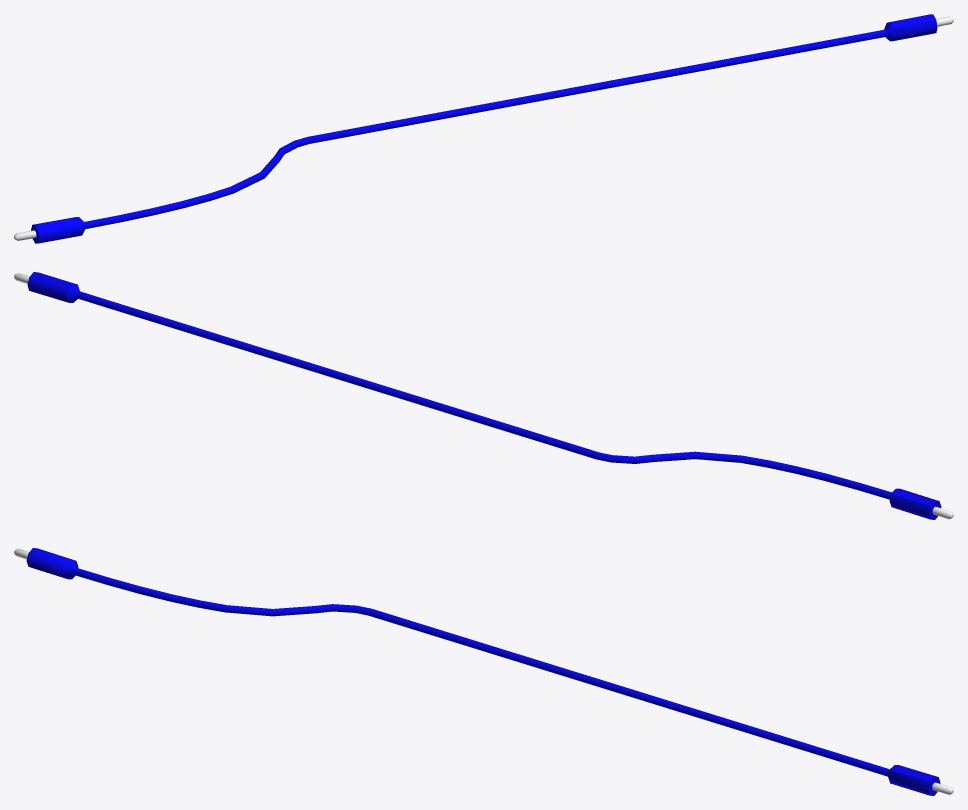
File: ElectroWires05_3.FBX
3 renders of one model, top to bottom at view 1: azimuth 30°, elevation 25°; view 2: azimuth 150°, elevation 25°; view 3: azimuth 330°, elevation 25°, orthographic. The views are drawn at different scales.
Parts seen in each view (by area): view 1: Object001; view 2: Object001; view 3: Object001.
Boxes of the visible parts, bbox=[...] form: Object001: bbox=[14, 14, 953, 243]; Object001: bbox=[14, 272, 953, 519]; Object001: bbox=[14, 548, 953, 795].
Bounding box in the file's own units: 144 × 2.77 × 11.77.
